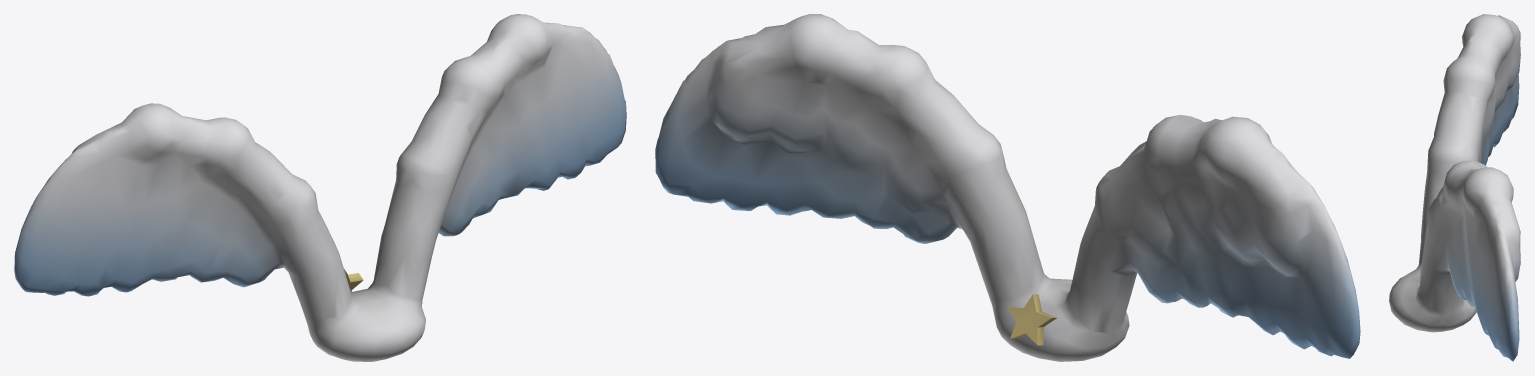
Rendered from air-back.glb.
The picture shows the model from 3 angles, left to right: view 1: azimuth 30°, elevation 25°; view 2: azimuth 150°, elevation 25°; view 3: azimuth 270°, elevation 25°; orthographic projection. The views are drawn at different scales.
Visible parts, largest first — view 1: air-back; view 2: air-back; view 3: air-back.
Boxes of the visible parts, x1,y1,x2,y2 form: air-back: [14, 14, 626, 361]; air-back: [655, 14, 1360, 361]; air-back: [1389, 14, 1520, 361].
Bounding box in the file's own units: 0.6756 × 0.2835 × 0.1471.
